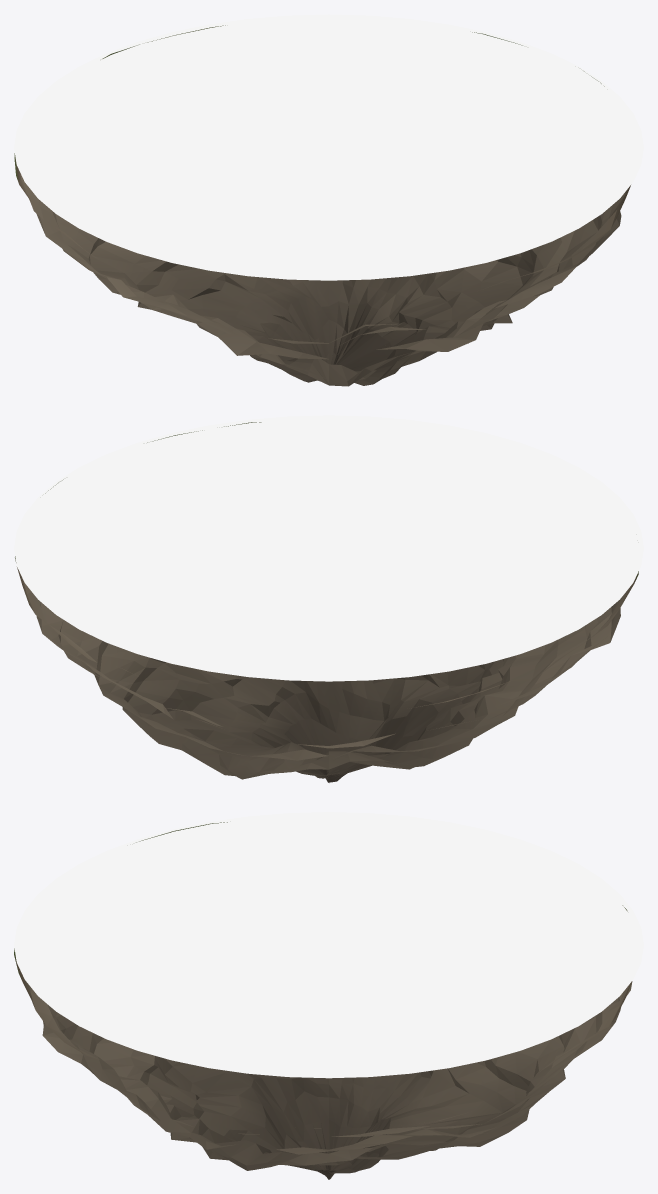
Rendered from island-basic-v2.glb.
3 renders of one model, top to bottom at view 1: azimuth 30°, elevation 25°; view 2: azimuth 150°, elevation 25°; view 3: azimuth 270°, elevation 25°, orthographic.
Visible parts, largest first — view 1: Mesh_0; view 2: Mesh_0; view 3: Mesh_0.
Boxes of the visible parts, left/top/right/bottom form: Mesh_0: left=14, top=14, right=643, bottom=386; Mesh_0: left=14, top=415, right=643, bottom=782; Mesh_0: left=14, top=812, right=643, bottom=1179.
Bounding box in the file's own units: 15.33 × 6.34 × 15.33.
